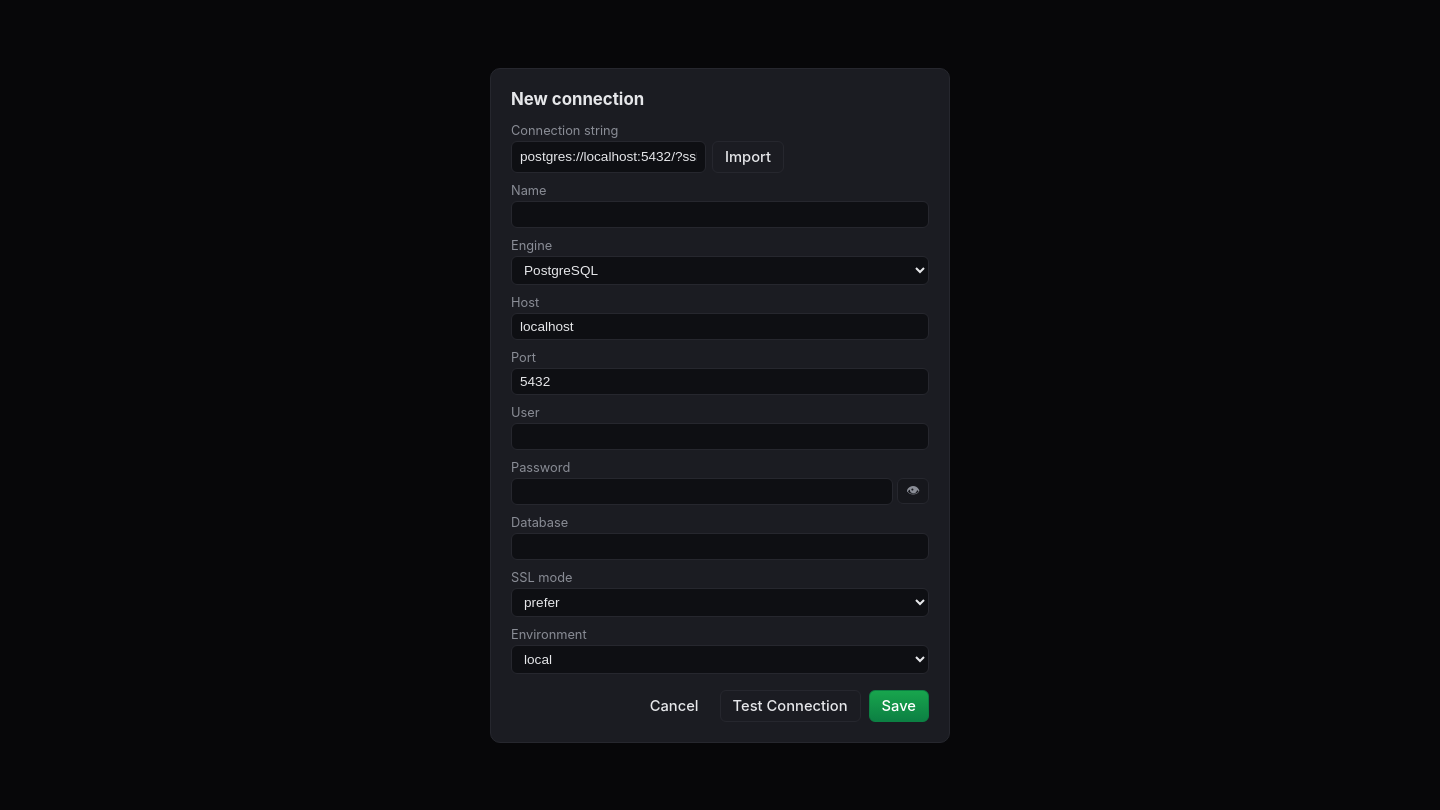
Test: ConnectionModal › shows a driver error inline when Test fails
Step 1. Click the button "Test Connection" → (790, 706), box [720, 690, 861, 722]
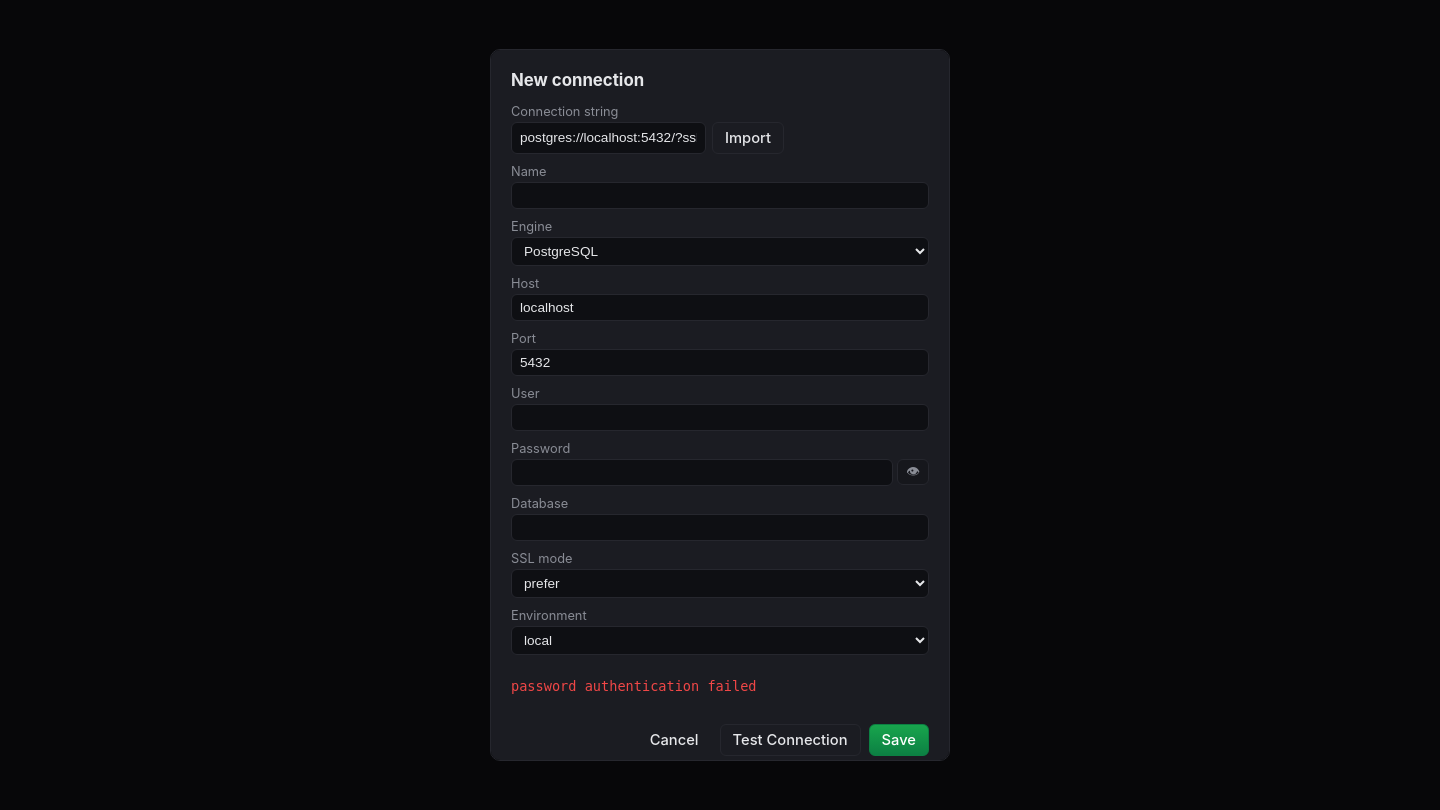
Result: the message reads "password authentication failed" at [511, 678, 756, 694]
